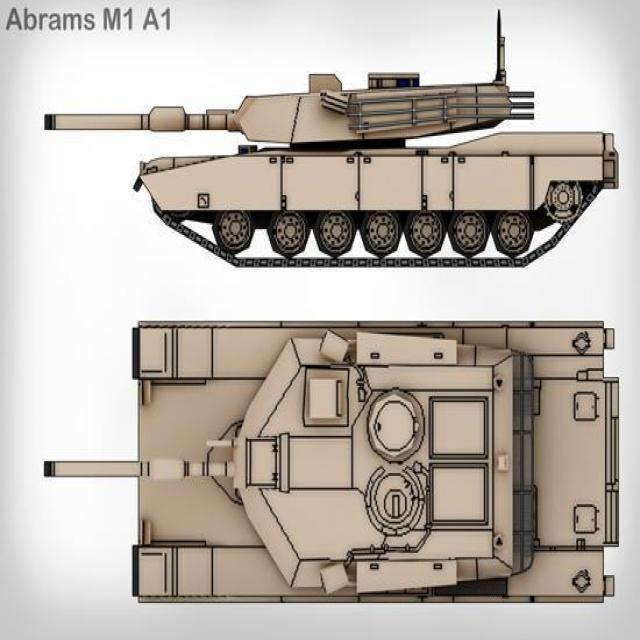MIL_MBT: (41, 316, 620, 601), (28, 35, 620, 273)
